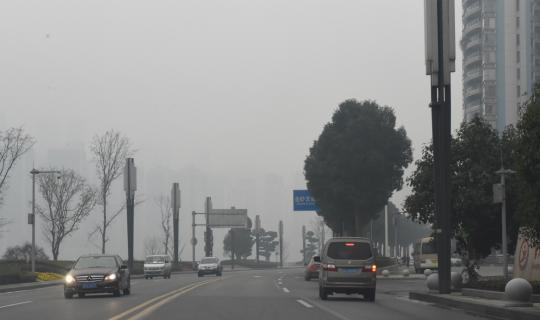car: (312, 237, 378, 299), (62, 252, 129, 298), (409, 235, 448, 274), (304, 254, 334, 282), (142, 252, 171, 280), (195, 255, 223, 277)
